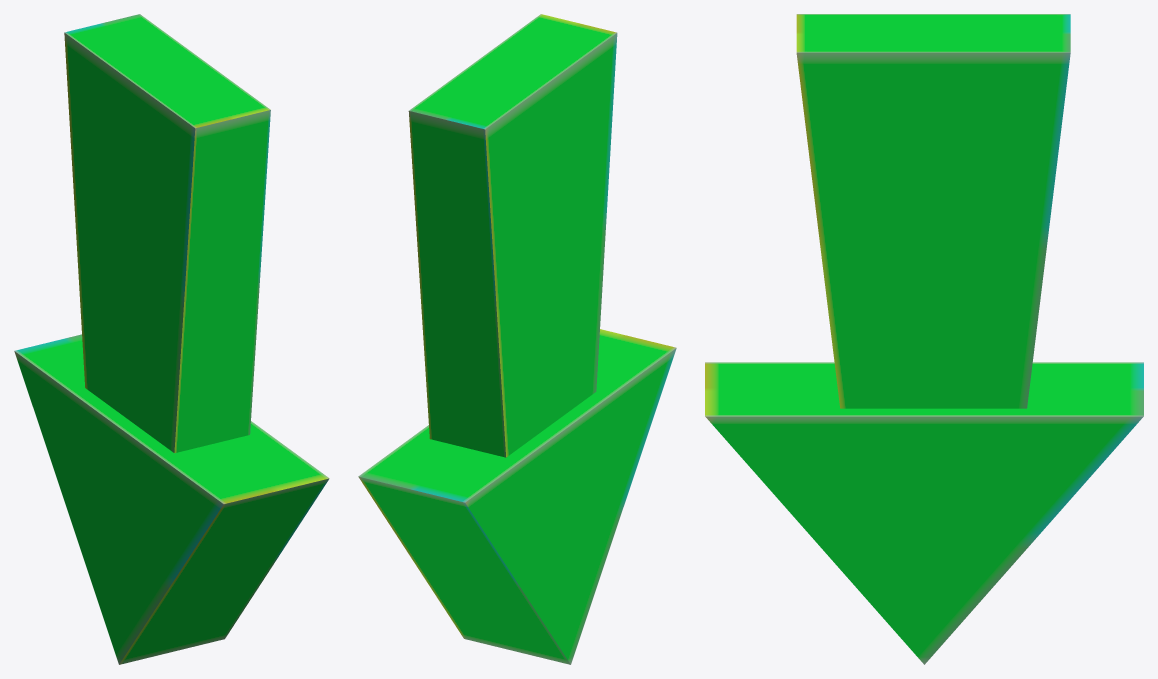
The model's file is green-arrow.gltf.
The picture shows the model from 3 angles, left to right: view 1: azimuth 30°, elevation 25°; view 2: azimuth 150°, elevation 25°; view 3: azimuth 270°, elevation 25°; orthographic projection. The views are drawn at different scales.
Size of the model in its own units: 0.7 by 3.65 by 2.4.
Materials: 1 (1 with a texture image).
